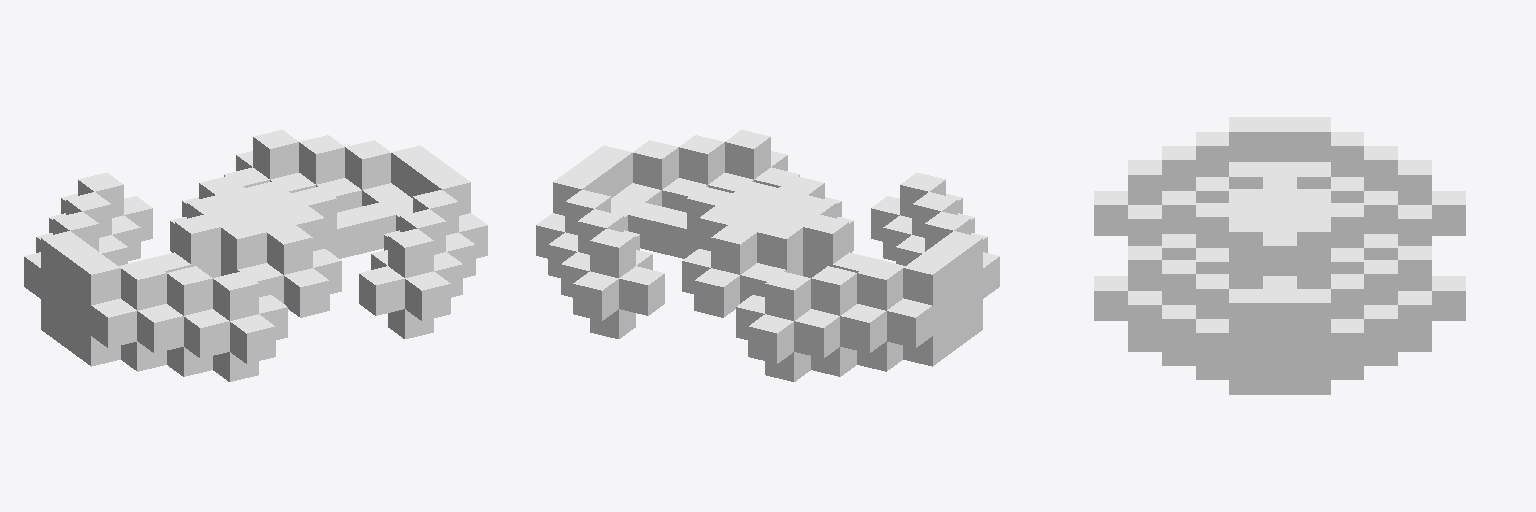
The model's file is EnemySmall.obj.
3 renders of one model, left to right at view 1: azimuth 30°, elevation 25°; view 2: azimuth 150°, elevation 25°; view 3: azimuth 270°, elevation 25°, orthographic.
Parts seen in each view (by area): view 1: object 1; view 2: object 1; view 3: object 1.
Part boxes in pixels (x1,y1,x2,y2): object 1: (24,130,487,381); object 1: (536,130,999,381); object 1: (1094,117,1465,394).
Size of the model in its own units: 1.3 by 0.3 by 1.1.